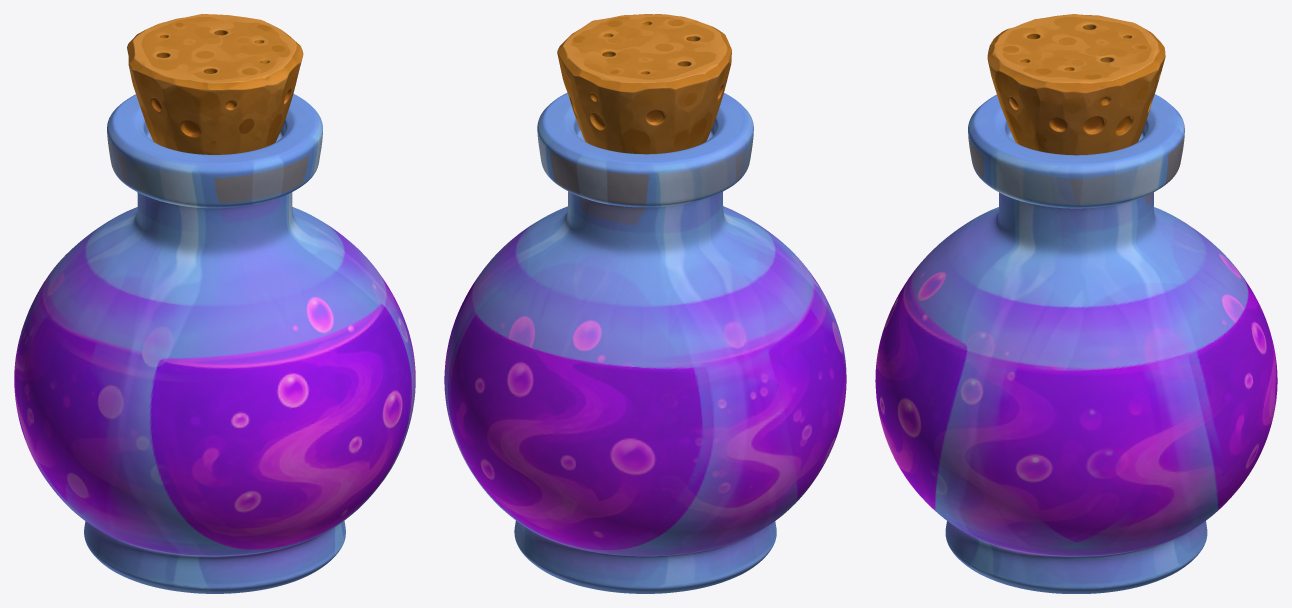
The model's file is IT_Clutter_PotionBottle.fbx.
3 renders of one model, left to right at view 1: azimuth 30°, elevation 25°; view 2: azimuth 150°, elevation 25°; view 3: azimuth 270°, elevation 25°, orthographic.
Visible parts, largest first — view 1: Mesh_0; view 2: Mesh_0; view 3: Mesh_0.
Part boxes in pixels (bbox=[...]): Mesh_0: bbox=[14, 14, 415, 593]; Mesh_0: bbox=[444, 14, 846, 593]; Mesh_0: bbox=[875, 14, 1277, 593].
Bounding box in the file's own units: 140 × 190 × 140.
Materials: 1 (1 with a texture image).
